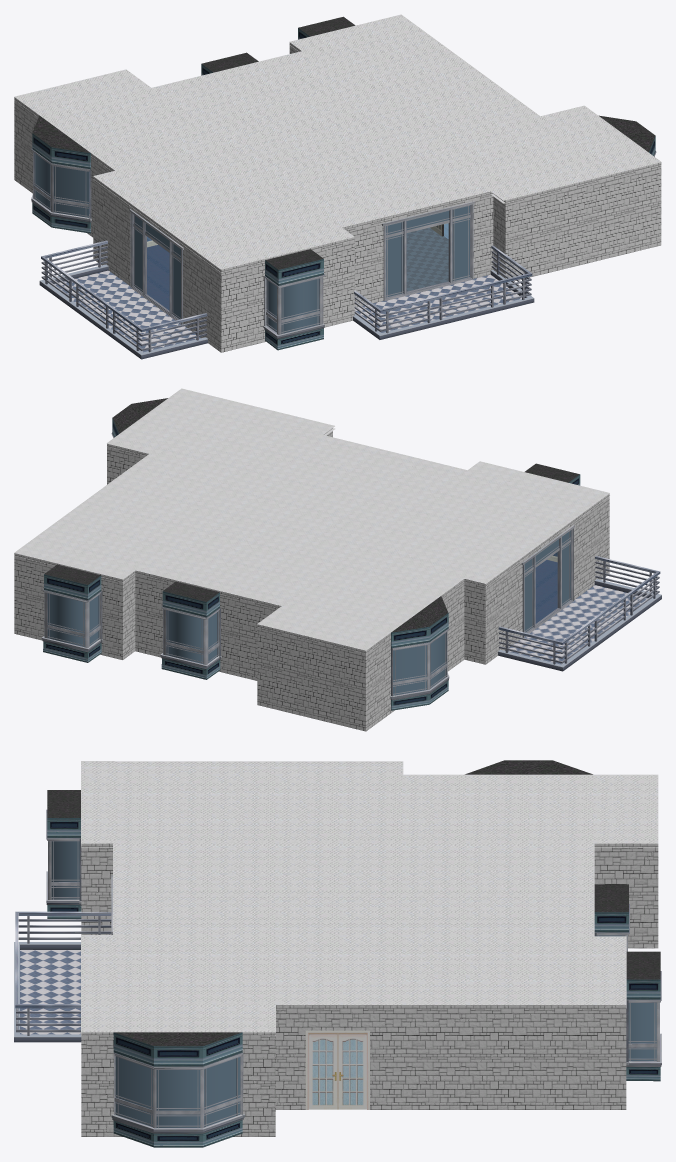
File: house_0120600.FBX
The picture shows the model from 3 angles, top to bottom: view 1: azimuth 30°, elevation 25°; view 2: azimuth 150°, elevation 25°; view 3: azimuth 270°, elevation 25°; orthographic projection. The views are drawn at different scales.
Visible parts, largest first — view 1: house_0120600_roof_100_00, house_0120600_outwall_100_13, house_0120600_floor_100_00, house_0120600_floor_100_01, house_0120600_floor_104_00, house_0120600_outwall_100_09, house_0120600_outwall_100_08, house_0120600_floor_103_00, house_0120600_outwall_101_02, house_0120600_outwall_100_11, house_0120600_floor_101_00, house_0120600_outwall_104_01 (+5 smaller); view 2: house_0120600_roof_100_00, house_0120600_outwall_100_05, house_0120600_floor_100_00, house_0120600_outwall_100_08, house_0120600_outwall_100_03, house_0120600_floor_103_00, house_0120600_floor_102_00, house_0120600_floor_101_00, house_0120600_outwall_100_01, house_0120600_outwall_100_06, house_0120600_outwall_104_01, house_0120600_floor_104_00 (+5 smaller); view 3: house_0120600_roof_100_00, house_0120600_outwall_100_00, house_0120600_floor_105_00, house_0120600_floor_100_01, house_0120600_outwall_100_14, house_0120600_outwall_101_00, house_0120600_floor_102_00, house_0120600_outwall_100_04, house_0120600_floor_104_00, house_0120600_outwall_100_10, house_0110600_tcx_100_00, house_0120600_floor_101_00 (+2 smaller).
Part boxes in pixels (x1,y1,x2,y2): house_0120600_roof_100_00: (14, 14, 661, 272); house_0120600_outwall_100_13: (505, 162, 661, 276); house_0120600_floor_100_00: (39, 240, 207, 359); house_0120600_floor_100_01: (353, 245, 534, 339); house_0120600_floor_104_00: (147, 245, 325, 350); house_0120600_outwall_100_09: (221, 237, 354, 346); house_0120600_outwall_100_08: (93, 176, 221, 346); house_0120600_floor_103_00: (31, 115, 91, 233); house_0120600_outwall_101_02: (382, 201, 474, 301); house_0120600_outwall_100_11: (342, 191, 493, 301); house_0120600_floor_101_00: (201, 52, 448, 291); house_0120600_outwall_104_01: (129, 209, 183, 324); house_0120600_roof_100_00: (14, 388, 609, 652); house_0120600_outwall_100_05: (257, 624, 365, 725); house_0120600_floor_100_00: (498, 556, 661, 671); house_0120600_outwall_100_08: (485, 493, 609, 658); house_0120600_outwall_100_03: (135, 570, 281, 675); house_0120600_floor_103_00: (390, 596, 449, 710); house_0120600_floor_102_00: (41, 564, 103, 662); house_0120600_floor_101_00: (160, 581, 221, 679); house_0120600_outwall_100_01: (14, 553, 122, 654); house_0120600_outwall_100_06: (366, 579, 464, 725); house_0120600_outwall_104_01: (521, 525, 574, 637); house_0120600_floor_104_00: (525, 463, 580, 623); house_0120600_roof_100_00: (81, 761, 658, 1035); house_0120600_outwall_100_00: (275, 1005, 626, 1102); house_0120600_floor_105_00: (111, 1032, 244, 1147); house_0120600_floor_100_01: (14, 911, 111, 1042); house_0120600_outwall_100_14: (81, 1032, 275, 1129); house_0120600_outwall_101_00: (305, 1030, 369, 1109); house_0120600_floor_102_00: (626, 951, 661, 1081); house_0120600_outwall_100_04: (594, 843, 658, 940); house_0120600_floor_104_00: (46, 790, 81, 918); house_0120600_outwall_100_10: (81, 843, 112, 934); house_0110600_tcx_100_00: (275, 1102, 626, 1109); house_0120600_floor_101_00: (594, 884, 629, 951).
Bounding box in the file's own units: 1939 × 290 × 1627.
74 materials, 74 textured.
